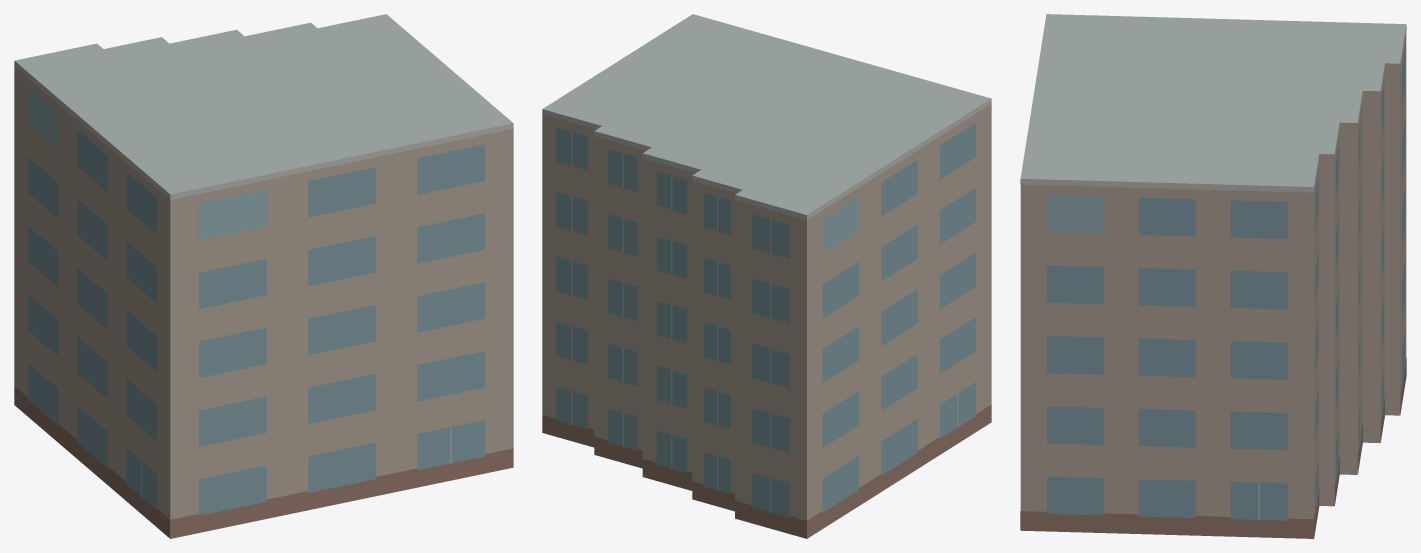
The model's file is survey-upis-32766889.glb.
The picture shows the model from 3 angles, left to right: view 1: azimuth 30°, elevation 25°; view 2: azimuth 150°, elevation 25°; view 3: azimuth 270°, elevation 25°; orthographic projection. The views are drawn at different scales.
Parts seen in each view (by area): view 1: survey-upis-32766889.tmp; view 2: survey-upis-32766889.tmp; view 3: survey-upis-32766889.tmp.
Boxes of the visible parts, x1,y1,x2,y2 form: survey-upis-32766889.tmp: (14, 14, 513, 538); survey-upis-32766889.tmp: (542, 14, 991, 538); survey-upis-32766889.tmp: (1020, 14, 1406, 538).
Size of the model in its own units: 16.09 by 15.25 by 15.17.
